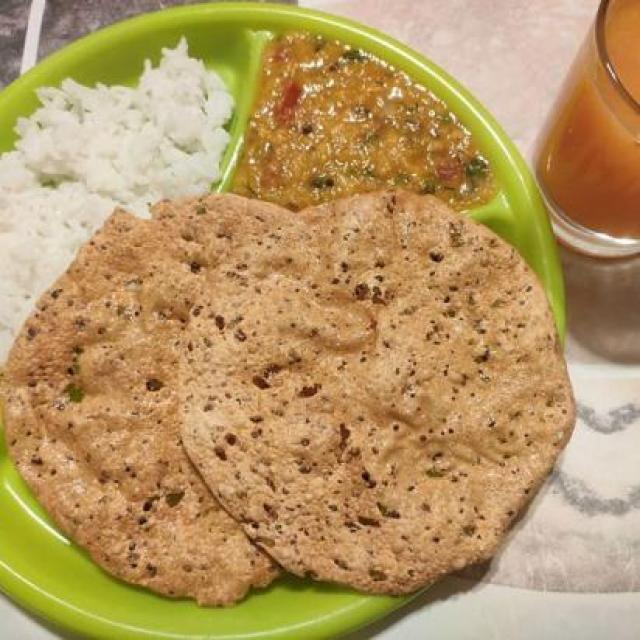Rice: (0, 39, 235, 370)
dal: (245, 28, 498, 199)
papad: (183, 190, 566, 591), (0, 191, 297, 600)
